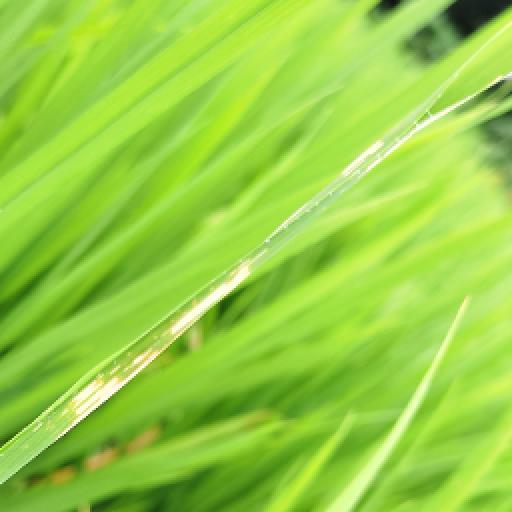Bacterial Leaf Blight: (262, 104, 446, 246), (24, 348, 220, 440), (120, 262, 286, 346)
